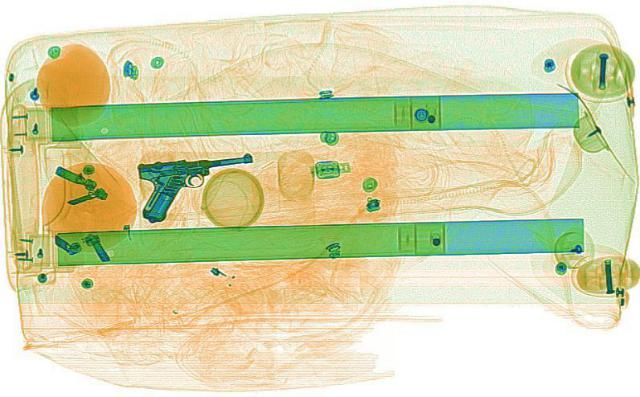Gun: (111, 145, 276, 222)
